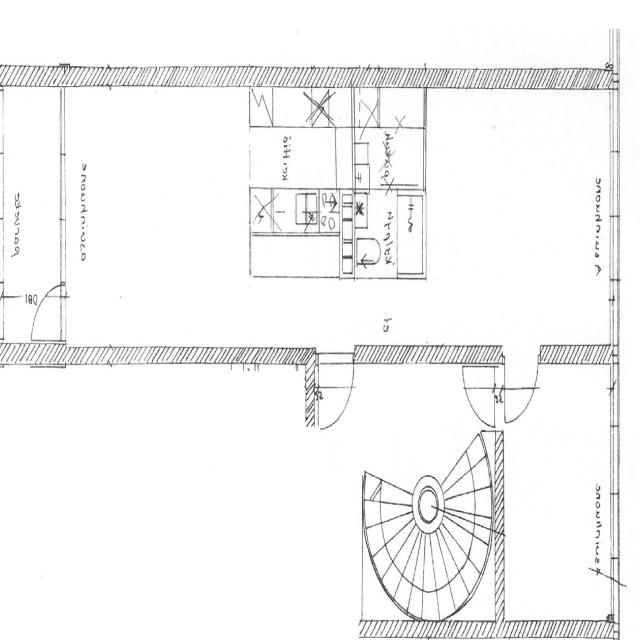door: (318, 345, 354, 429), (506, 345, 538, 423), (462, 367, 504, 426), (30, 286, 66, 341), (378, 273, 399, 317)
